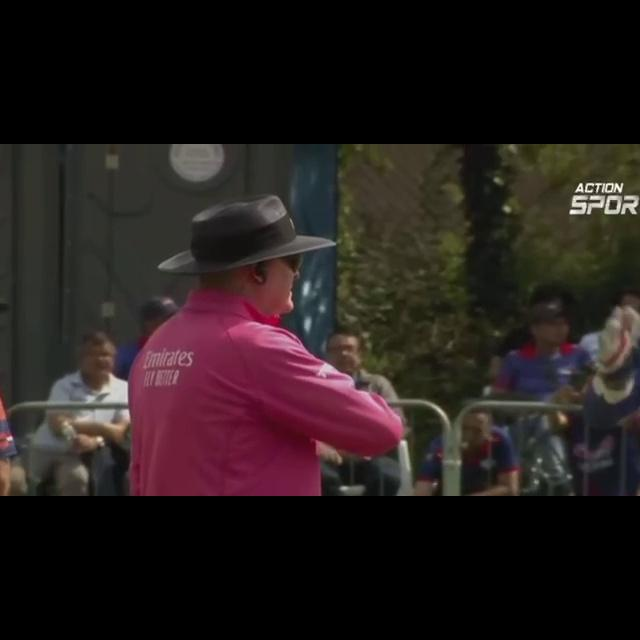umpire: (121, 184, 424, 496)
